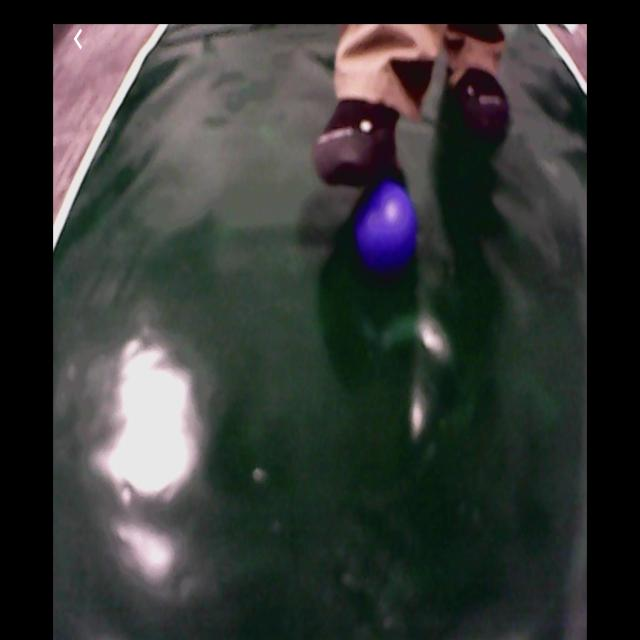ball: (361, 184, 417, 263)
